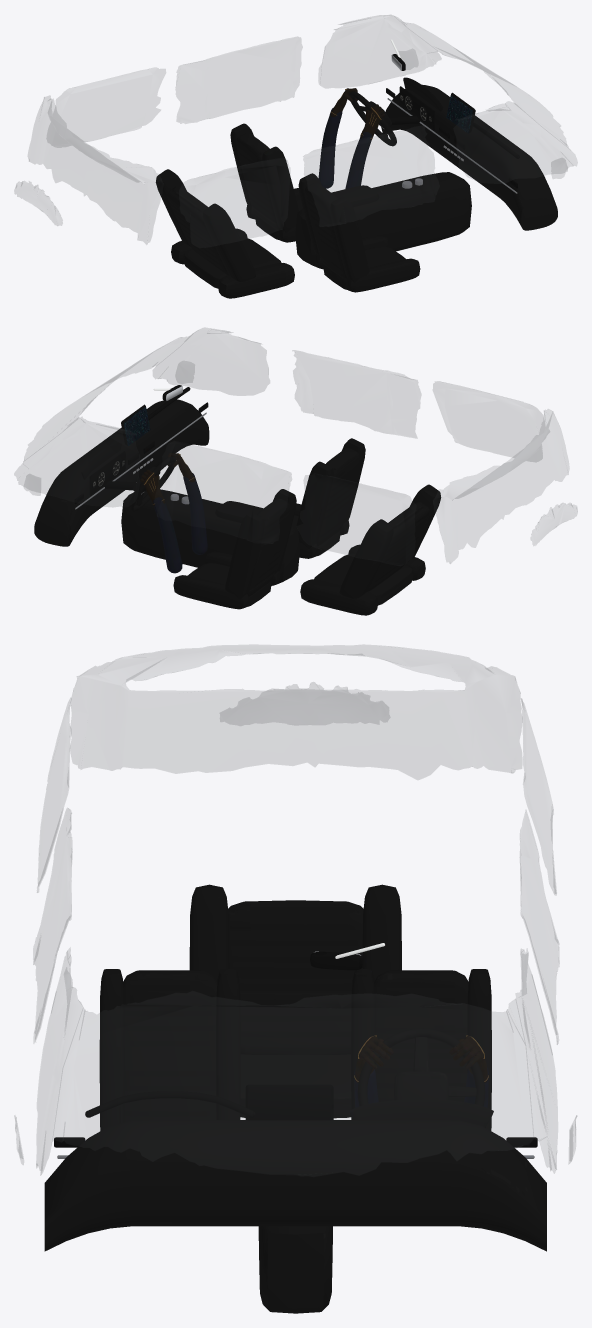
The model's file is rb_ridgeback_cockpit.glb.
The picture shows the model from 3 angles, top to bottom: view 1: azimuth 30°, elevation 25°; view 2: azimuth 150°, elevation 25°; view 3: azimuth 270°, elevation 25°; orthographic projection. The views are drawn at different scales.
Parts seen in each view (by area): view 1: cabin_glass, cockpit_shell, window_R, window_L, hands, steering_wheel; view 2: cabin_glass, cockpit_shell, window_L, window_R, hands, steering_wheel; view 3: cabin_glass, cockpit_shell, window_L, window_R, steering_wheel, hands.
Part boxes in pixels (x1,y1,x2,y2): cabin_glass: [14, 16, 567, 247]; cockpit_shell: [155, 39, 557, 298]; window_R: [454, 101, 577, 183]; window_L: [321, 15, 441, 87]; hands: [318, 88, 384, 188]; steering_wheel: [349, 91, 396, 146]; cabin_glass: [23, 329, 577, 565]; cockpit_shell: [34, 385, 441, 615]; window_L: [14, 417, 138, 506]; window_R: [153, 328, 269, 395]; hands: [140, 453, 207, 573]; steering_wheel: [128, 456, 176, 511]; cabin_glass: [33, 645, 576, 1176]; cockpit_shell: [44, 884, 546, 1313]; window_L: [507, 950, 576, 1172]; window_R: [14, 951, 84, 1175]; steering_wheel: [357, 1028, 485, 1106]; hands: [354, 1035, 488, 1126].
Bounding box in the file's own units: 3.35 × 1.2 × 1.8.
Materials: 4 (2 with a texture image).
